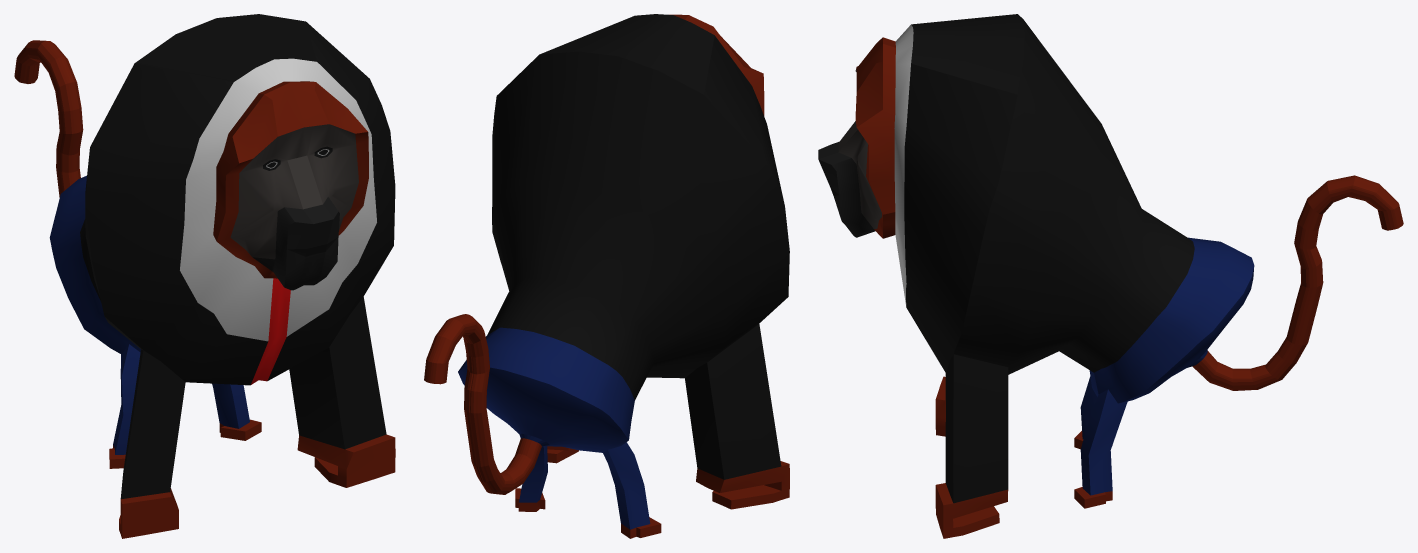
File: ape.FBX
3 renders of one model, left to right at view 1: azimuth 30°, elevation 25°; view 2: azimuth 150°, elevation 25°; view 3: azimuth 270°, elevation 25°, orthographic. The views are drawn at different scales.
Parts seen in each view (by area): view 1: Plane002; view 2: Plane002; view 3: Plane002.
Part boxes in pixels (x1,y1,x2,y2): Plane002: (14,14,395,538); Plane002: (424,14,789,538); Plane002: (818,14,1403,538).
Bounding box in the file's own units: 65.89 × 114 × 94.57.
